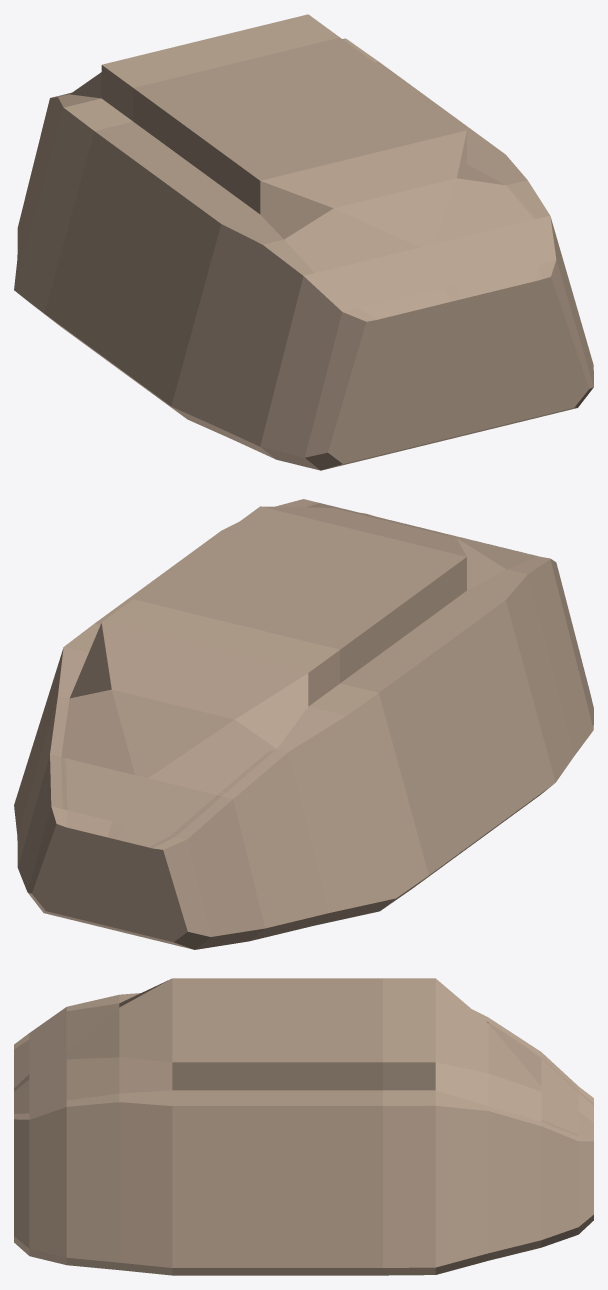
Rendered from orrin_heavy_a.glb.
3 views of the same model, one above another, from view 1: azimuth 30°, elevation 25°; view 2: azimuth 150°, elevation 25°; view 3: azimuth 270°, elevation 25° (orthographic). The views are drawn at different scales.
Parts seen in each view (by area): view 1: orrin_heavy_a; view 2: orrin_heavy_a; view 3: orrin_heavy_a.
Boxes of the visible parts, bbox=[...] form: orrin_heavy_a: bbox=[14, 14, 593, 470]; orrin_heavy_a: bbox=[14, 499, 593, 949]; orrin_heavy_a: bbox=[14, 978, 593, 1275].
Bounding box in the file's own units: 4.9 × 2.69 × 7.7.
